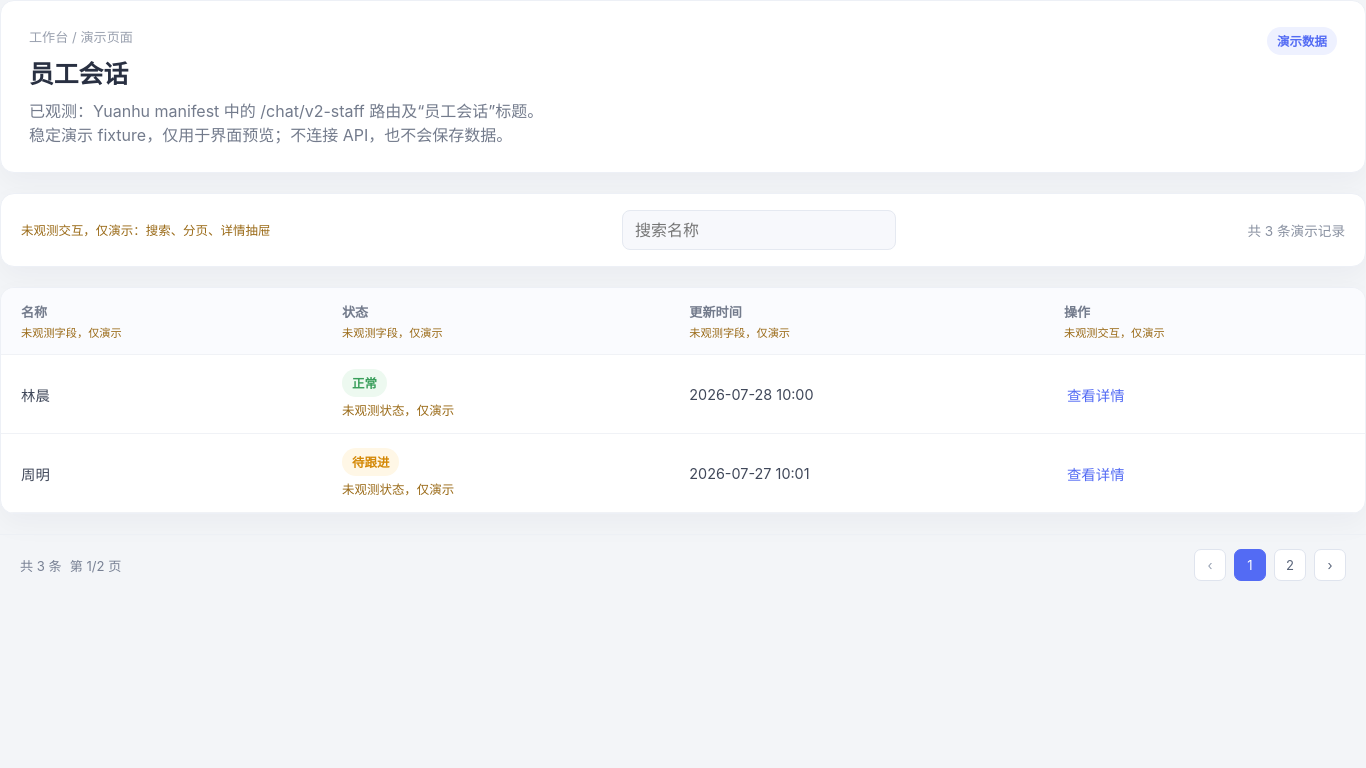
Test: DemoPage › filters the stable fixture when searching
The image size is (1366, 768).
Type "林晨" into the search field named "搜索员工会话".
click(759, 230); type("林晨")  # box [622,210,896,250]
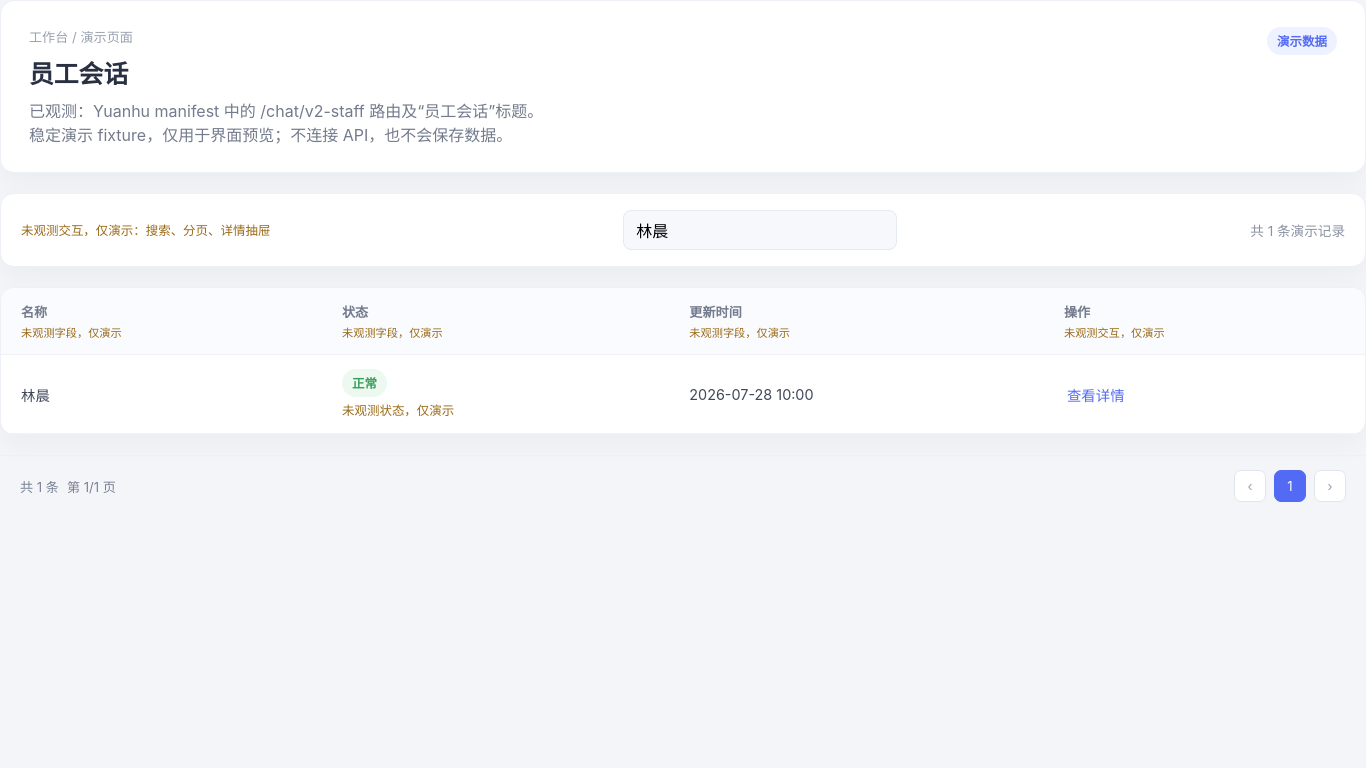
Expected: the text "林晨" is shown, [1,354,322,434]
Expected: the text "周明" is gone
